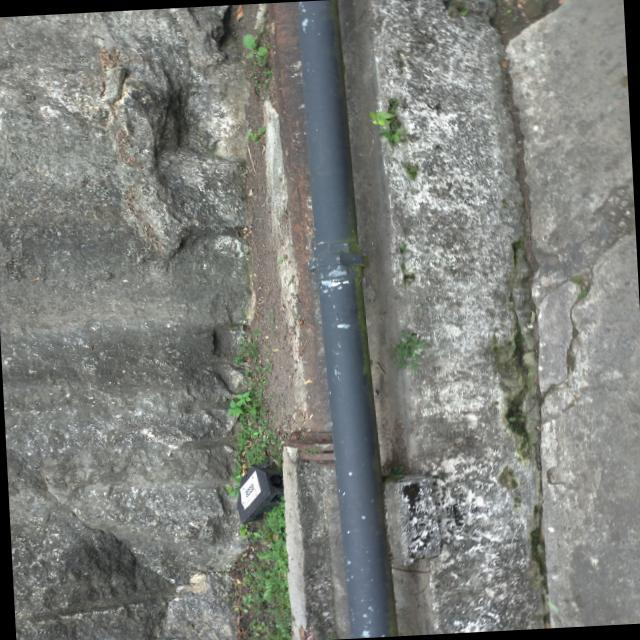gas: (293, 0, 396, 640)
